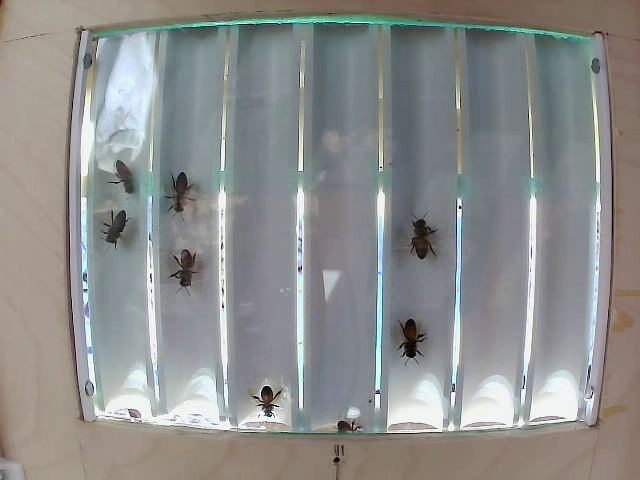bee: (161, 238, 209, 293), (100, 207, 139, 261), (380, 320, 435, 356), (114, 151, 147, 210), (170, 167, 200, 228), (406, 221, 436, 267)
